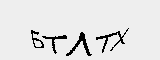Б: (26, 28, 44, 50)
Л: (70, 32, 93, 56)
Т: (43, 35, 68, 56), (97, 31, 116, 54)
Х: (111, 26, 129, 53)
